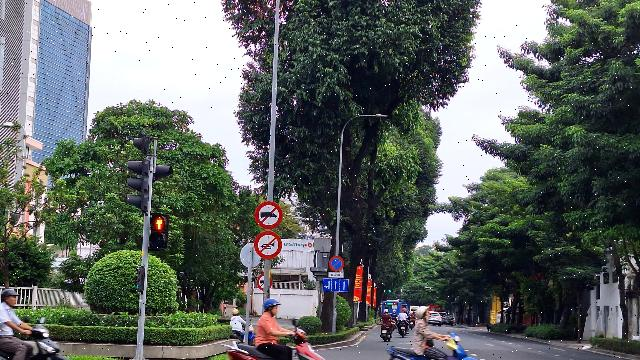cam-bop-coi: (254, 231, 282, 259)
cam-do-xe: (328, 256, 344, 272)
